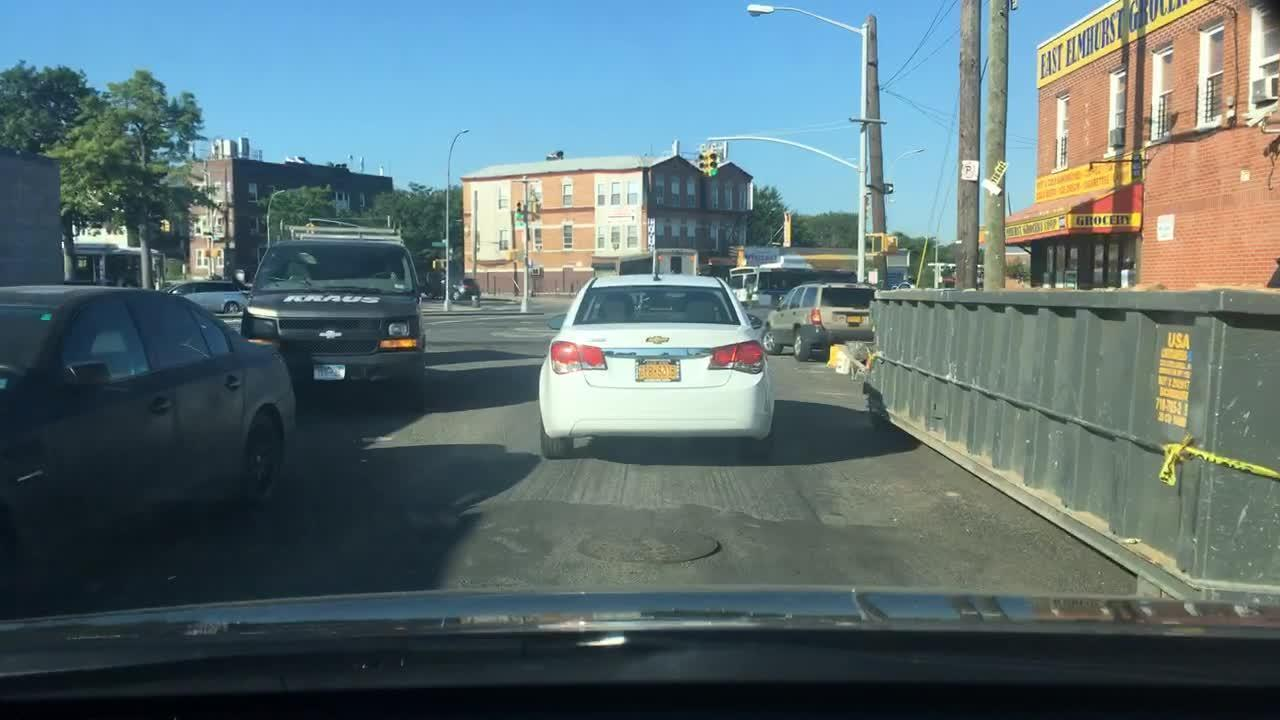chevrolet: (312, 324, 351, 345), (640, 333, 680, 349)
